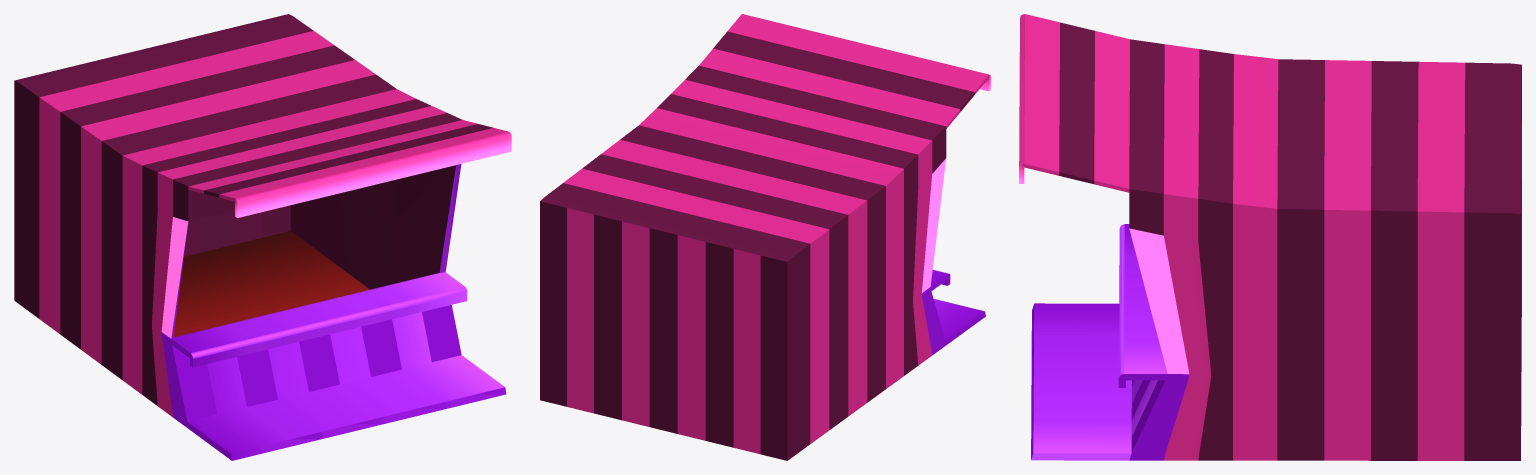
The model's file is grid1-smallattraction2.glb.
3 renders of one model, left to right at view 1: azimuth 30°, elevation 25°; view 2: azimuth 150°, elevation 25°; view 3: azimuth 270°, elevation 25°, orthographic. The views are drawn at different scales.
Parts seen in each view (by area): view 1: attraction2; view 2: attraction2; view 3: attraction2.
Boxes of the visible parts, x1,y1,x2,y2 form: attraction2: (14,14,511,460); attraction2: (540,14,990,460); attraction2: (1019,14,1521,460).
Size of the model in its own units: 0.6867 by 0.6321 by 0.9708.
Materials: 1 (1 with a texture image).
